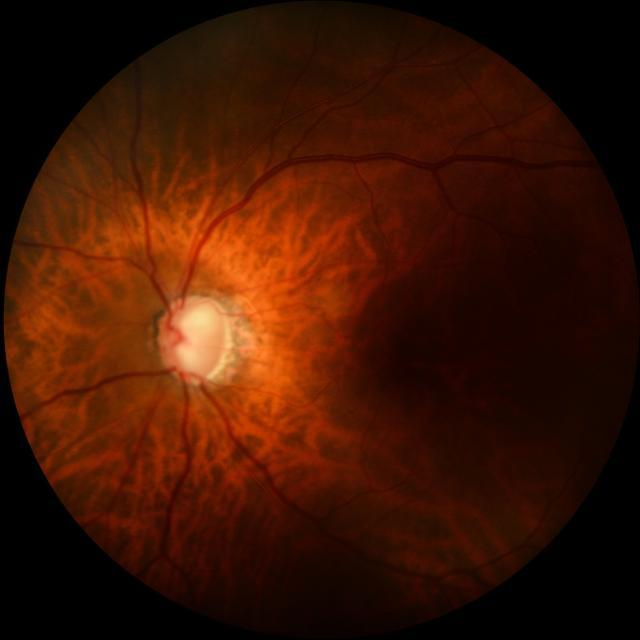OC: (173, 298, 228, 376)
OD: (156, 294, 232, 382)
